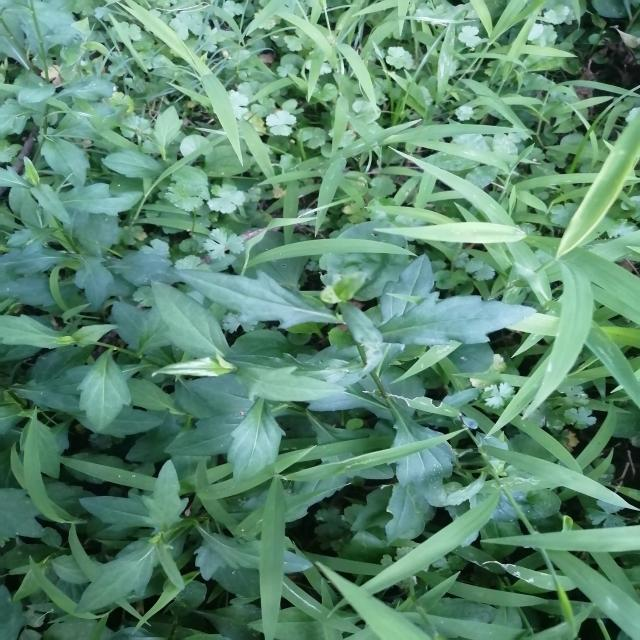Indian aster: (144, 267, 345, 464), (10, 266, 166, 420)
